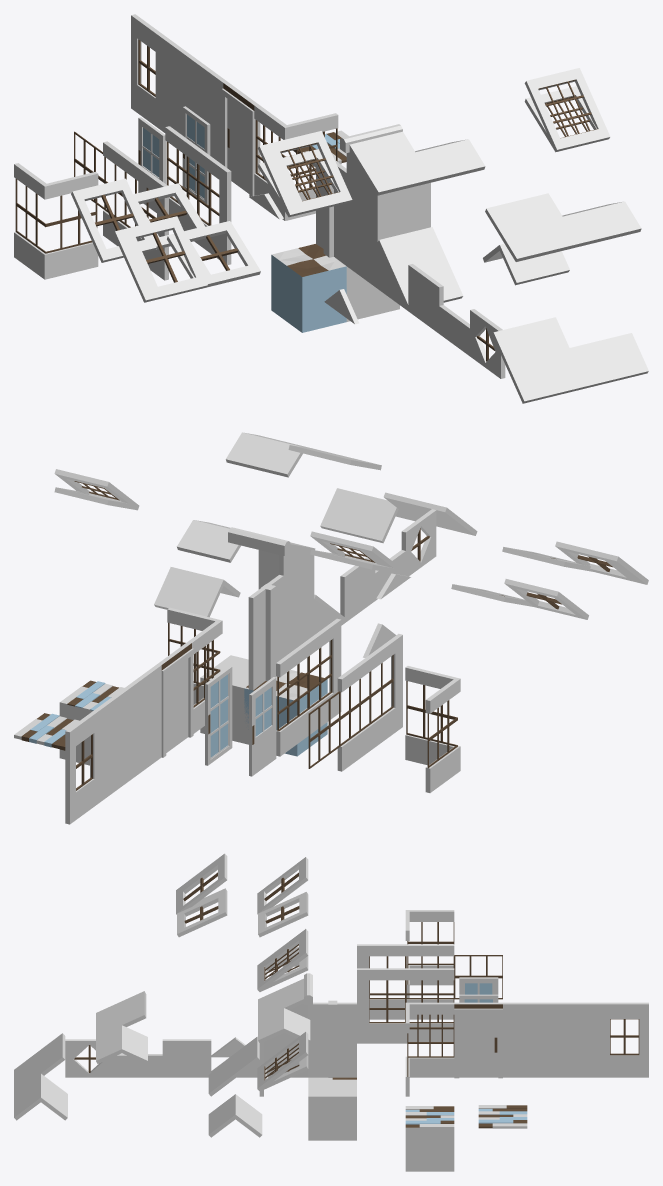
File: House.fbx
The picture shows the model from 3 angles, top to bottom: view 1: azimuth 30°, elevation 25°; view 2: azimuth 150°, elevation 25°; view 3: azimuth 270°, elevation 25°; orthographic projection. The views are drawn at different scales.
Parts seen in each view (by area): view 1: Corner 1, Floor 1, Roof 2 End, Window Corner 1, Wall 2, Roof 1 End, Roof 2 Skylight Small Panes End, Roof 2 Skylight End, Roof 2, Roof 1, Roof 2 Skylight Small Panes, Roof 2 Middle End (+26 smaller); view 2: Wall 2, Window Corner 1, Corner 1, Small Window 1, Roof 2 Middle End, Window Corner 1 Small Panes, Roof 2 Middle, Wall 1, Door 2, Door 3, Window 1, Window 2 Small Panes (+24 smaller); view 3: Wall 2, Wood Floor 1, Wall 1, Foundation 1, Small Window 1, Door 1, Window 1 Small Panes, Window Corner 1 Small Panes, Short Wall 1, Window 2 Small Panes, Roof 2 Middle End, Window Corner 1 (+25 smaller).
Part boxes in pixels (x1,y1,x2,y2): Corner 1: (346, 173, 430, 288); Floor 1: (271, 244, 346, 332); Roof 2 End: (492, 317, 586, 403); Window Corner 1: (14, 163, 98, 279); Wall 2: (161, 37, 227, 163); Roof 1 End: (485, 193, 579, 261); Roof 2 Skylight Small Panes End: (258, 131, 352, 217); Roof 2 Skylight End: (113, 216, 207, 302); Roof 2: (377, 227, 463, 310); Roof 1: (349, 131, 431, 195); Roof 2 Skylight Small Panes: (524, 68, 610, 152); Roof 2 Middle End: (570, 333, 648, 388); Wall 2: (96, 664, 161, 801); Window Corner 1: (405, 666, 460, 792); Corner 1: (258, 550, 314, 657); Small Window 1: (65, 709, 100, 824); Roof 2 Middle End: (320, 488, 413, 543); Window Corner 1 Small Panes: (167, 607, 222, 733); Roof 2 Middle: (154, 567, 240, 617); Wall 1: (248, 575, 283, 690); Door 2: (205, 666, 232, 765); Door 3: (249, 677, 276, 776); Window 1: (368, 633, 402, 748); Window 2 Small Panes: (276, 641, 310, 756); Wall 2: (503, 1002, 600, 1077); Wood Floor 1: (405, 1106, 454, 1171); Wall 1: (308, 1002, 356, 1077); Foundation 1: (308, 1077, 356, 1140); Small Window 1: (600, 1002, 648, 1077); Door 1: (459, 1013, 498, 1077); Window 1 Small Panes: (357, 968, 405, 1043); Window Corner 1 Small Panes: (405, 1002, 454, 1096); Short Wall 1: (162, 1039, 211, 1077); Window 2 Small Panes: (405, 968, 454, 1043); Roof 2 Middle End: (14, 1073, 67, 1120); Window Corner 1: (405, 910, 454, 997).
Bounding box in the file's own units: 5800 × 2138 × 7832.
